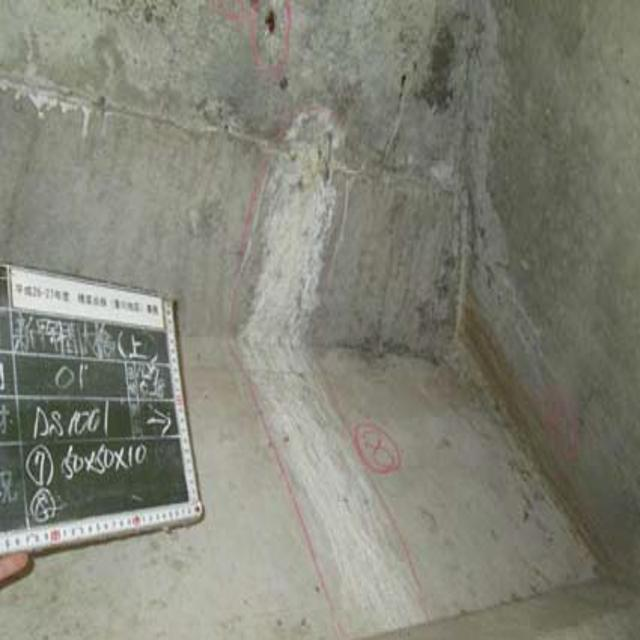freelime: (224, 104, 446, 640)
